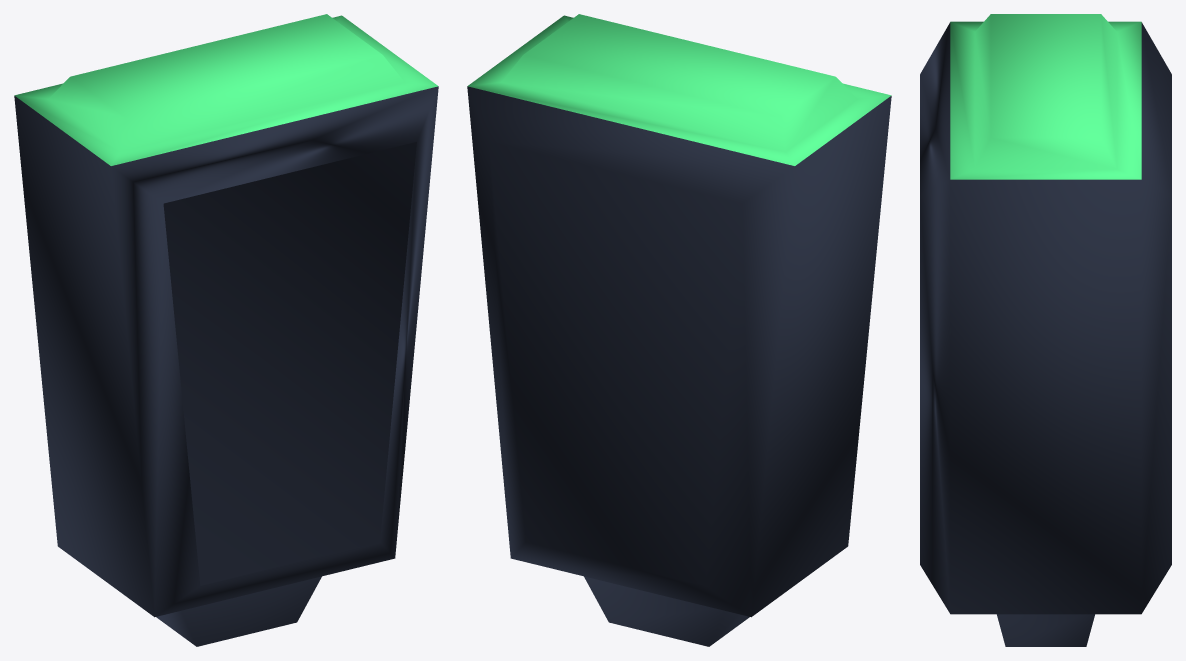
File: float_Body.obj
The picture shows the model from 3 angles, left to right: view 1: azimuth 30°, elevation 25°; view 2: azimuth 150°, elevation 25°; view 3: azimuth 270°, elevation 25°; orthographic projection.
Parts seen in each view (by area): view 1: C_Body; view 2: C_Body; view 3: C_Body.
Part boxes in pixels (bbox=[...]): C_Body: bbox=[14, 14, 438, 646]; C_Body: bbox=[467, 14, 891, 646]; C_Body: bbox=[920, 14, 1171, 646].
Bounding box in the file's own units: 0.6828 × 1.1 × 0.4602.
1 material, 1 textured.
